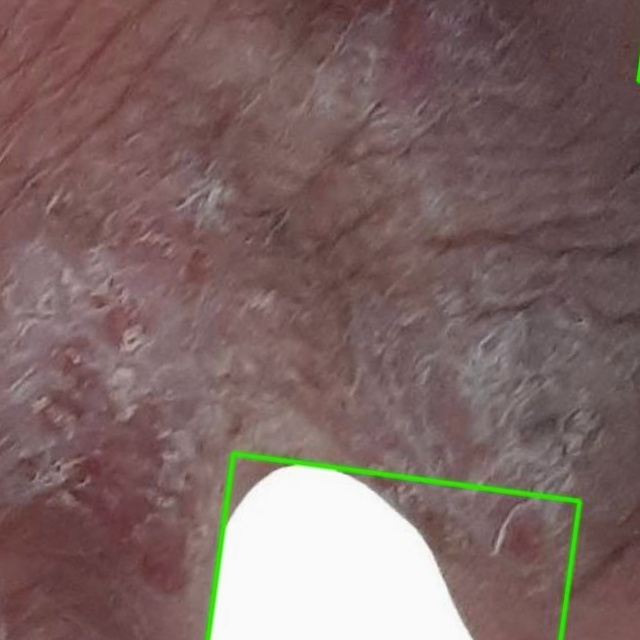Eczema: (208, 453, 579, 639)
